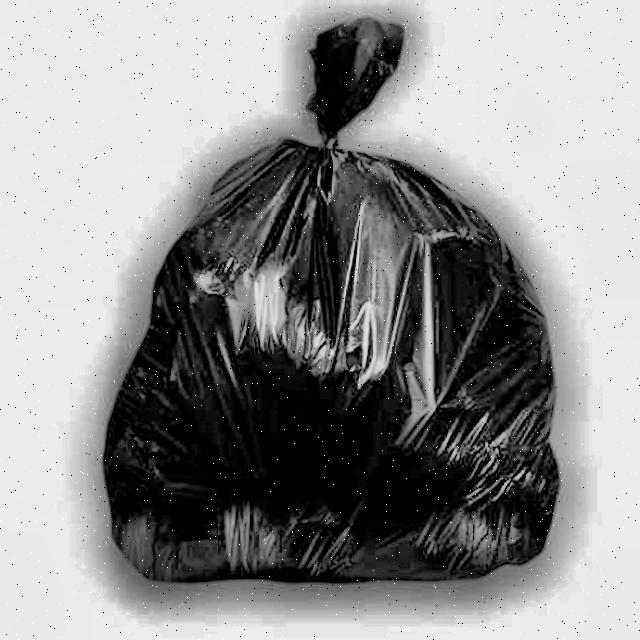Trashbag: (89, 67, 584, 599)
